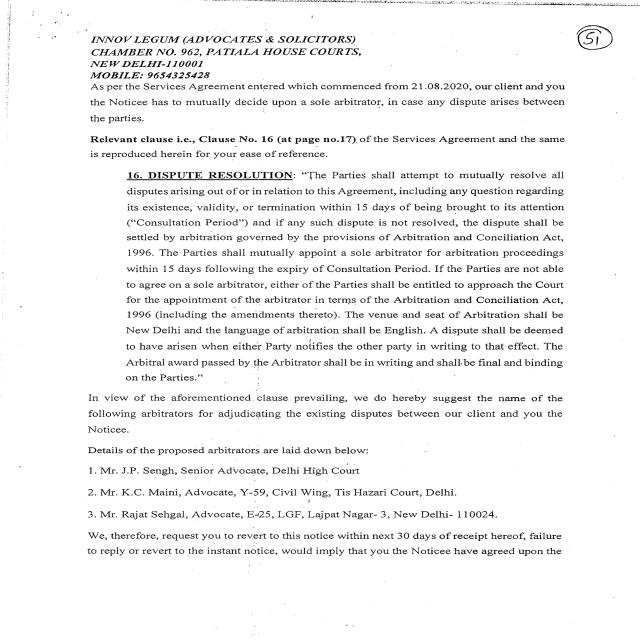page-number: (422, 11, 635, 72)
